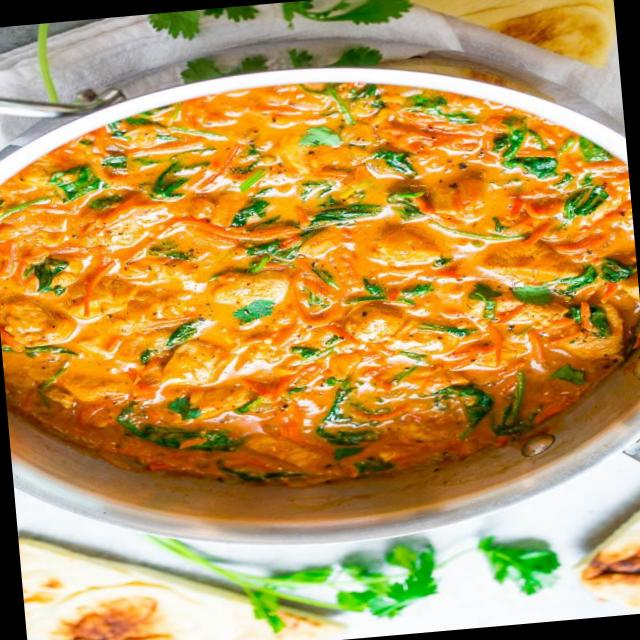chicken: (0, 76, 625, 533)
